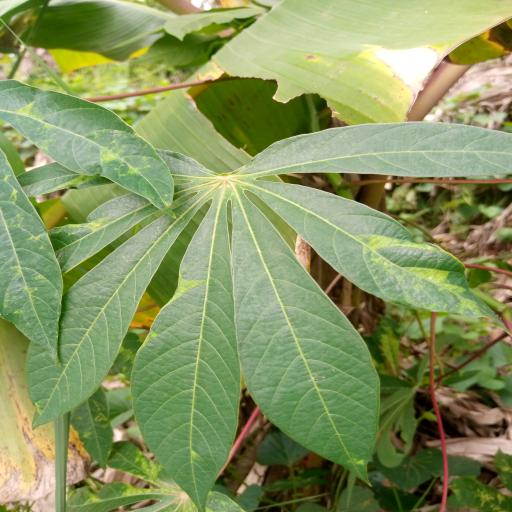Cassava_Mosaic: (0, 121, 512, 512)
